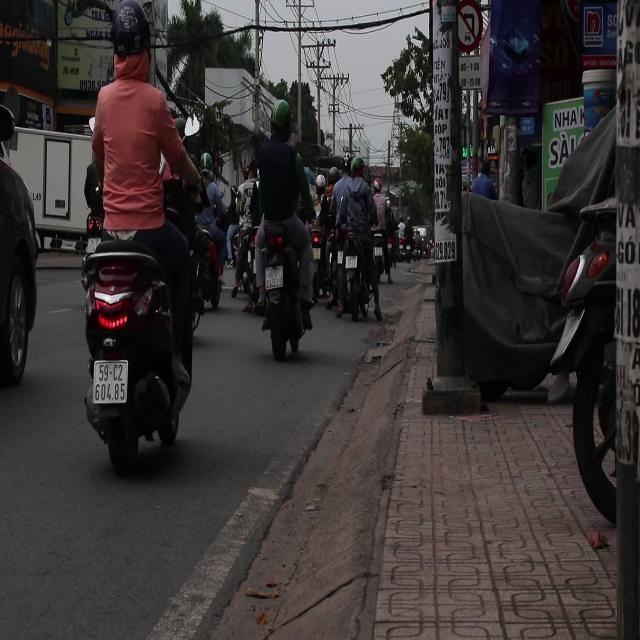car: (0, 98, 40, 396)
motorbike: (79, 225, 191, 471), (244, 209, 311, 359), (186, 179, 228, 304), (343, 233, 375, 324)
